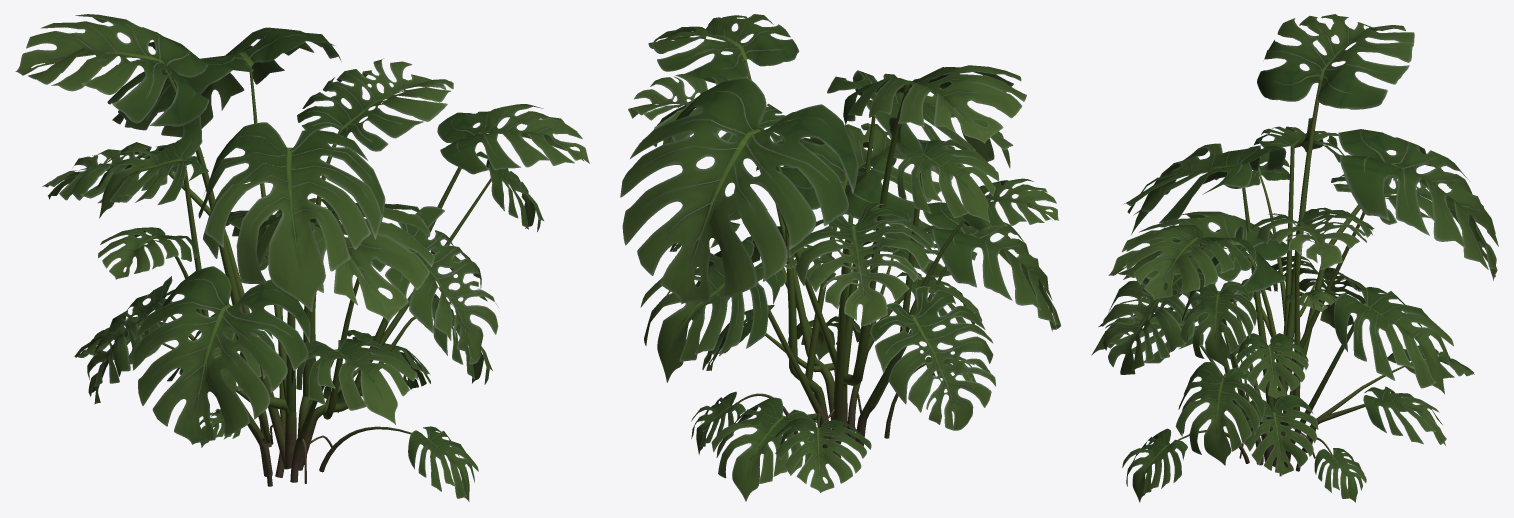
Rendered from monstera.glb.
3 views of the same model, side by side, from view 1: azimuth 30°, elevation 25°; view 2: azimuth 150°, elevation 25°; view 3: azimuth 270°, elevation 25° (orthographic). The views are drawn at different scales.
Parts seen in each view (by area): view 1: Leaves, root_HP_1_Mat.2_0; view 2: Leaves, root_HP_1_Mat.2_0; view 3: Leaves, root_HP_1_Mat.2_0.
Boxes of the visible parts, x1,y1,x2,y2 form: Leaves: (15, 14, 589, 501); root_HP_1_Mat.2_0: (158, 65, 491, 486); Leaves: (620, 14, 1060, 501); root_HP_1_Mat.2_0: (717, 60, 965, 457); Leaves: (1091, 14, 1498, 502); root_HP_1_Mat.2_0: (1178, 79, 1411, 476).
Size of the model in its own units: 0.8695 by 0.8109 by 0.7911.
Materials: 2 (2 with a texture image).
